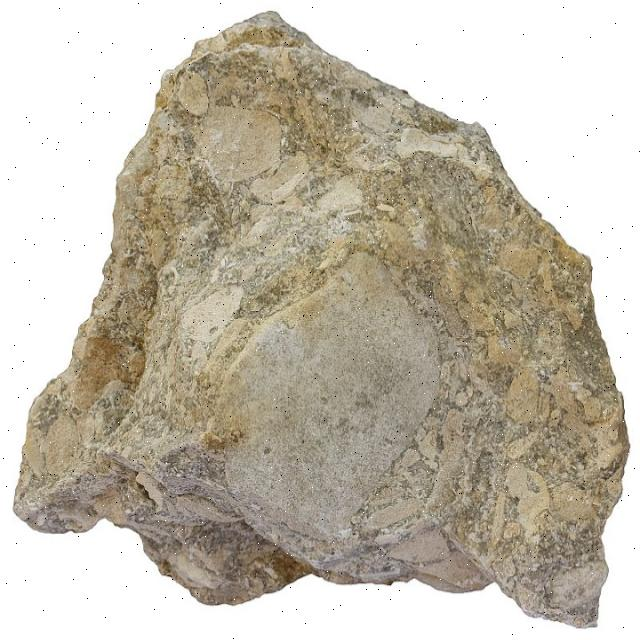Sedimentary: (13, 7, 630, 634)
